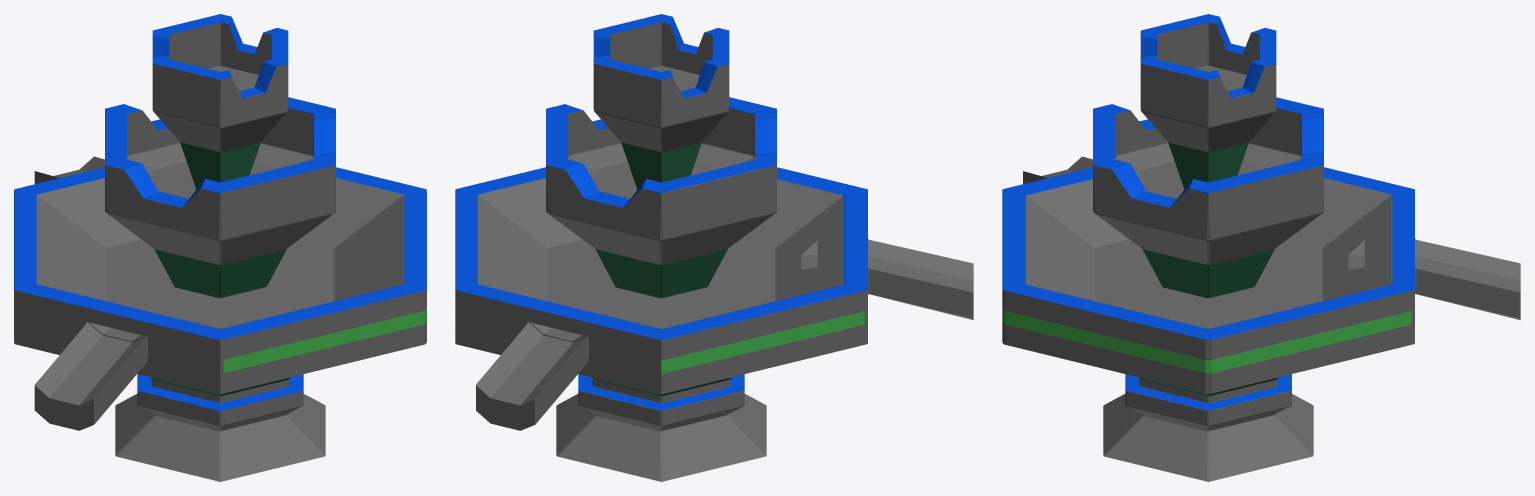
File: Fontaine11.glb
The picture shows the model from 3 angles, left to right: view 1: azimuth 30°, elevation 25°; view 2: azimuth 150°, elevation 25°; view 3: azimuth 270°, elevation 25°; orthographic projection.
Visible parts, largest first — view 1: Cylindre; view 2: Cylindre; view 3: Cylindre.
Part boxes in pixels (x1,y1,x2,y2): Cylindre: (14, 14, 426, 481); Cylindre: (455, 14, 973, 481); Cylindre: (1002, 14, 1520, 481).
Bounding box in the file's own units: 4.96 × 4 × 4.9.
